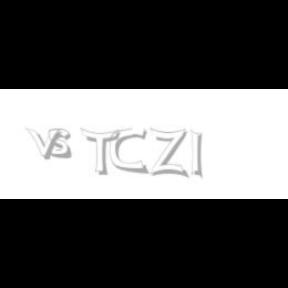C: (110, 128, 146, 174)
I: (190, 128, 204, 180)
T: (80, 128, 120, 176)
Z: (150, 128, 186, 178)
s: (48, 128, 76, 160)
v: (25, 128, 65, 160)
